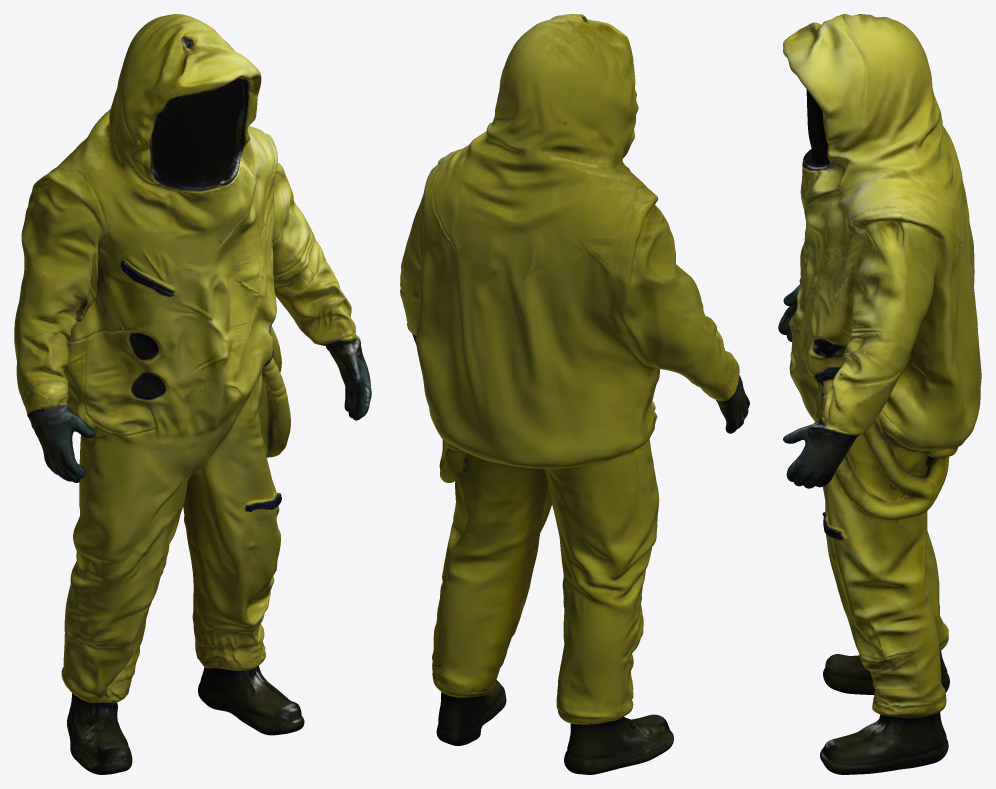
Rendered from Traje.glb.
The picture shows the model from 3 angles, left to right: view 1: azimuth 30°, elevation 25°; view 2: azimuth 150°, elevation 25°; view 3: azimuth 270°, elevation 25°; orthographic projection. The views are drawn at different scales.
Visible parts, largest first — view 1: Traje; view 2: Traje; view 3: Traje.
Part boxes in pixels (x1,y1,x2,y2): Traje: (14, 14, 371, 774); Traje: (400, 14, 749, 774); Traje: (778, 14, 981, 774).
Size of the model in its own units: 0.4654 by 0.9803 by 0.255.
Materials: 1 (1 with a texture image).
